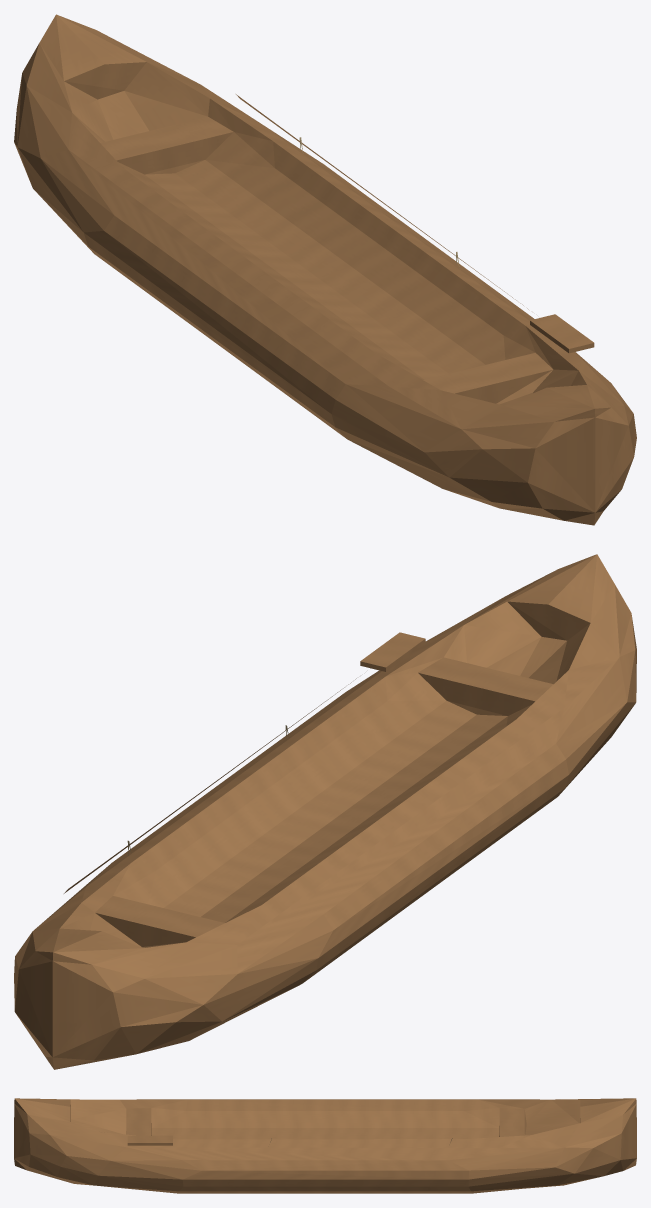
File: ship_lod2.glb
The picture shows the model from 3 angles, top to bottom: view 1: azimuth 30°, elevation 25°; view 2: azimuth 150°, elevation 25°; view 3: azimuth 270°, elevation 25°; orthographic projection. The views are drawn at different scales.
Visible parts, largest first — view 1: lod2_hollowed_log_line, lod2_paddle_blade; view 2: lod2_hollowed_log_line, lod2_paddle_blade; view 3: lod2_hollowed_log_line, lod2_paddle_blade.
Part boxes in pixels (bbox=[...]): lod2_hollowed_log_line: bbox=[14, 14, 636, 525]; lod2_paddle_blade: bbox=[530, 314, 594, 353]; lod2_hollowed_log_line: bbox=[14, 554, 636, 1069]; lod2_paddle_blade: bbox=[360, 632, 425, 671]; lod2_hollowed_log_line: bbox=[14, 1098, 636, 1193]; lod2_paddle_blade: bbox=[127, 1135, 172, 1145].
Bounding box in the file's own units: 1.39 × 0.7994 × 5.51.
2 materials, 2 textured.
